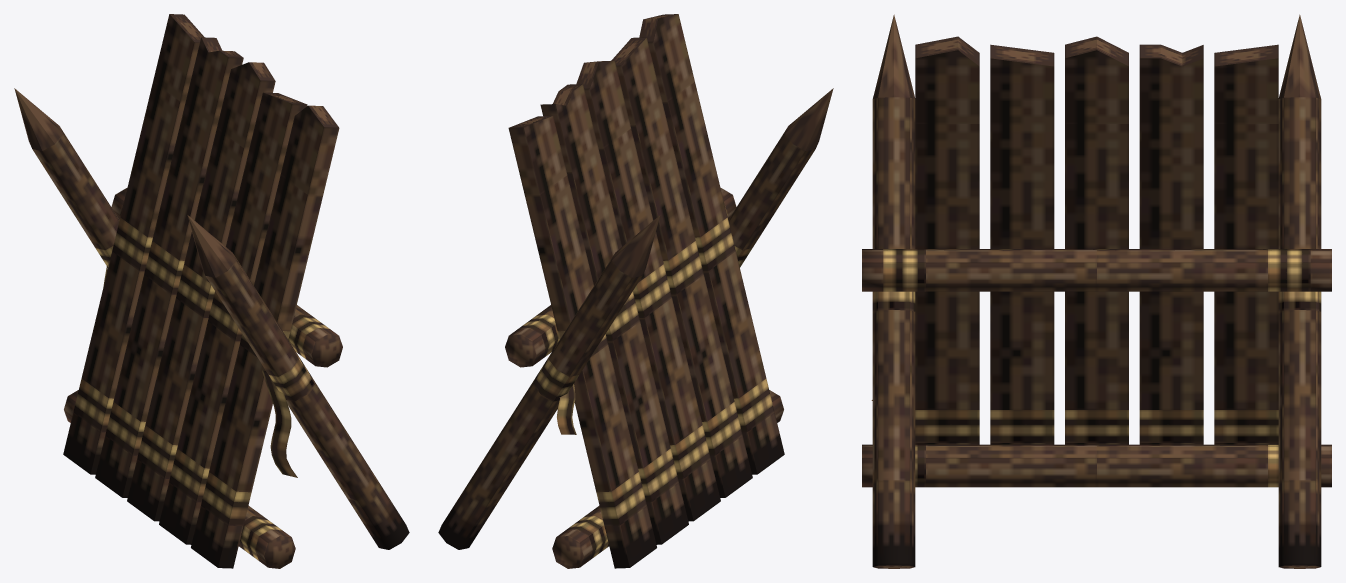
The model's file is ObjMD_Battlefield_Fence_A.FBX.
3 renders of one model, left to right at view 1: azimuth 30°, elevation 25°; view 2: azimuth 150°, elevation 25°; view 3: azimuth 270°, elevation 25°, orthographic. The views are drawn at different scales.
Parts seen in each view (by area): view 1: ObjMD_Battlefield_Fence_A; view 2: ObjMD_Battlefield_Fence_A; view 3: ObjMD_Battlefield_Fence_A.
Boxes of the visible parts, x1,y1,x2,y2 form: ObjMD_Battlefield_Fence_A: (14, 14, 409, 568); ObjMD_Battlefield_Fence_A: (438, 14, 833, 568); ObjMD_Battlefield_Fence_A: (862, 14, 1331, 568).
Size of the model in its own units: 173 by 328 by 275.
